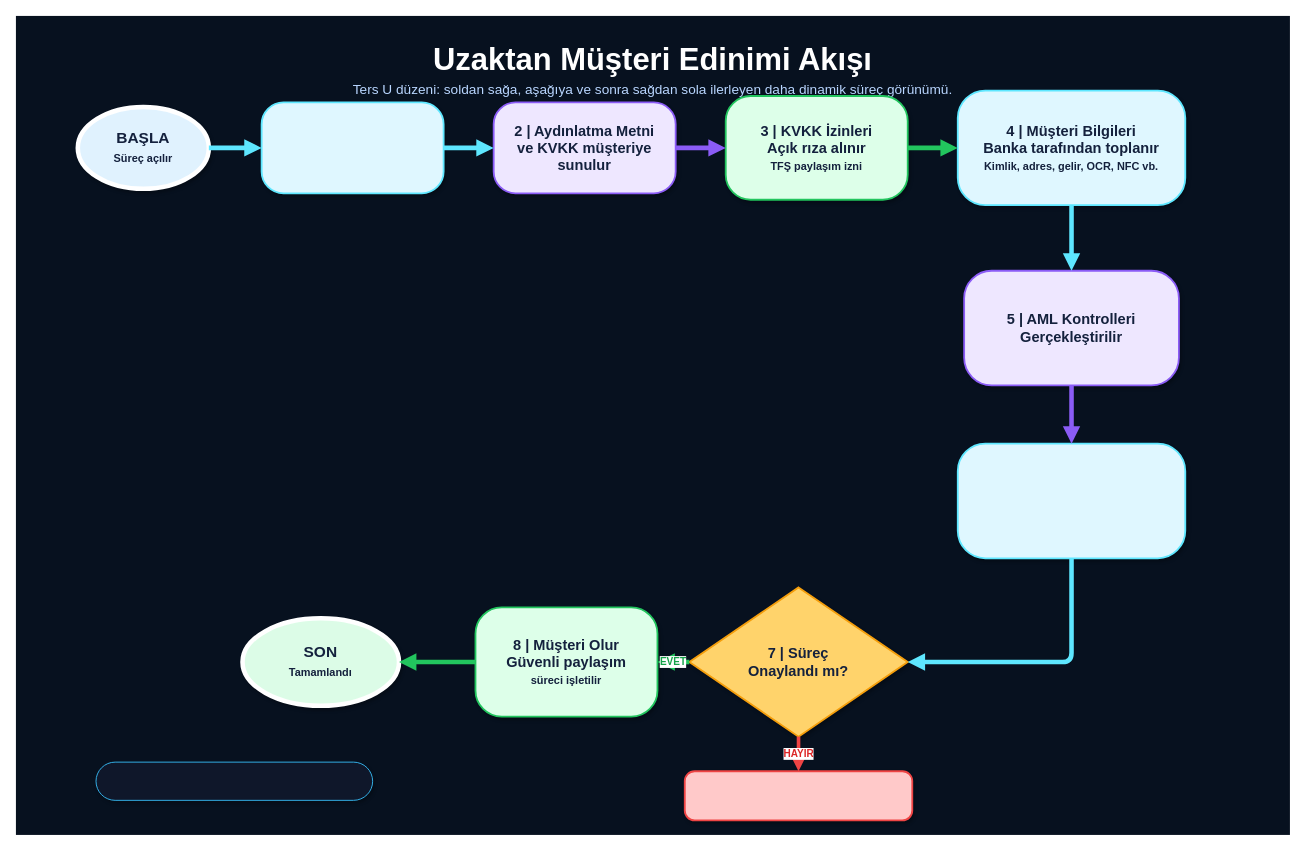
This 1305x850 diagram has some shape labels left out. The centre of each missing label's shape, as x and y in pixels:
1 | Uzaktan Edinim Süreci başlatılır: pixel 353 148
6 | Görüntülü Görüşme Müşteri temsilcisiyle yapılır: pixel 1072 502
Başvuru reddedilir Müşteri bilgilendirilir: pixel 799 796
Ters U akış: soldan sağa, aşağı, sonra sağdan sola: pixel 234 782
